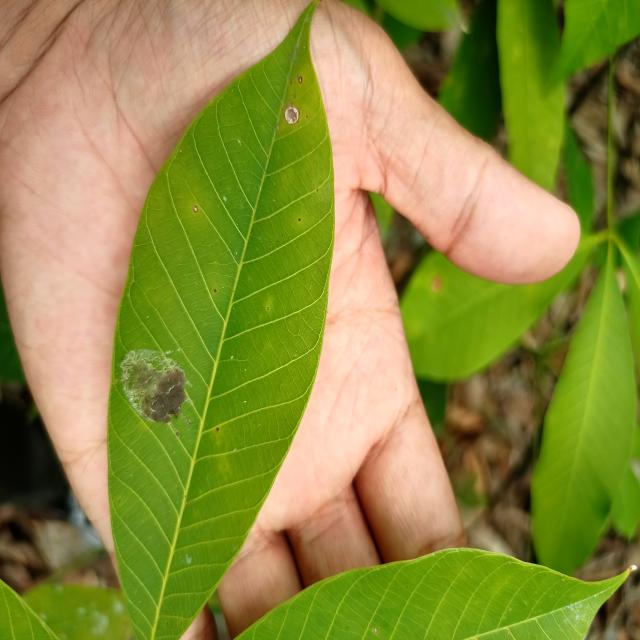Colletotrichum: (284, 106, 300, 125), (298, 77, 303, 84), (193, 205, 198, 212), (214, 289, 217, 292), (267, 307, 269, 310), (298, 219, 301, 221)
